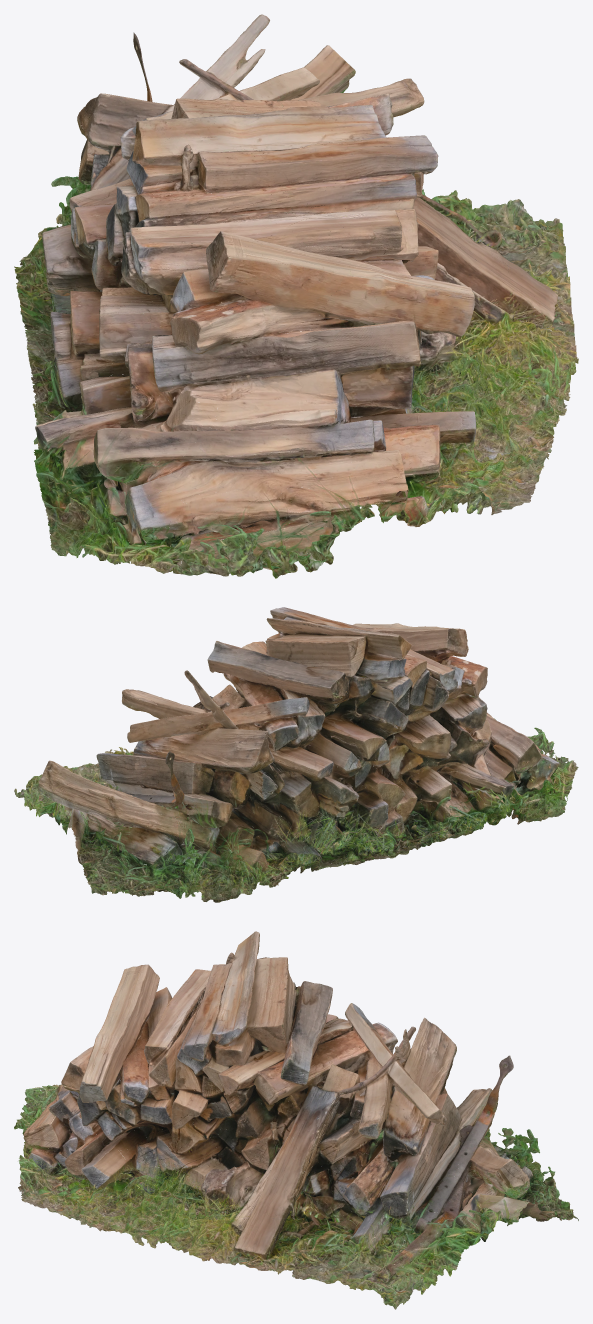
Rendered from sf-small-wood-stack-003b7b.glb.
3 views of the same model, one above another, from view 1: azimuth 30°, elevation 25°; view 2: azimuth 150°, elevation 25°; view 3: azimuth 270°, elevation 25° (orthographic). The views are drawn at different scales.
Visible parts, largest first — view 1: Model_material1_0, Model_material2_0, Model_material0_0; view 2: Model_material1_0, Model_material2_0, Model_material0_0; view 3: Model_material2_0, Model_material0_0, Model_material1_0.
Boxes of the visible parts, x1=… form: Model_material1_0: x1=14, y1=14, x2=578, y2=574; Model_material2_0: x1=19, y1=32, x2=574, y2=575; Model_material0_0: x1=16, y1=34, x2=576, y2=578; Model_material1_0: x1=14, y1=607, x2=577, y2=899; Model_material2_0: x1=21, y1=617, x2=572, y2=902; Model_material0_0: x1=18, y1=610, x2=578, y2=901; Model_material2_0: x1=15, y1=931, x2=573, y2=1304; Model_material0_0: x1=18, y1=947, x2=559, y2=1309; Model_material1_0: x1=14, y1=953, x2=578, y2=1307.
Bounding box in the file's own units: 1.49 × 0.6602 × 1.56.
Materials: 3 (3 with a texture image).
